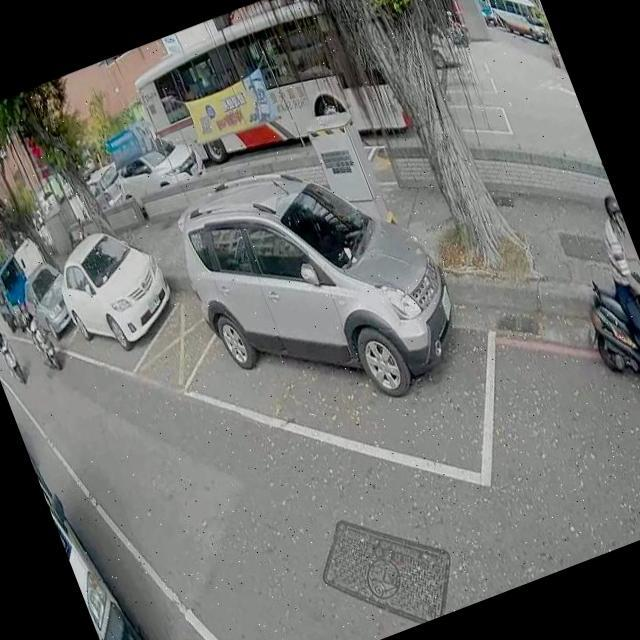person: (571, 183, 640, 420), (13, 294, 47, 352), (0, 318, 22, 378), (446, 8, 466, 40)
